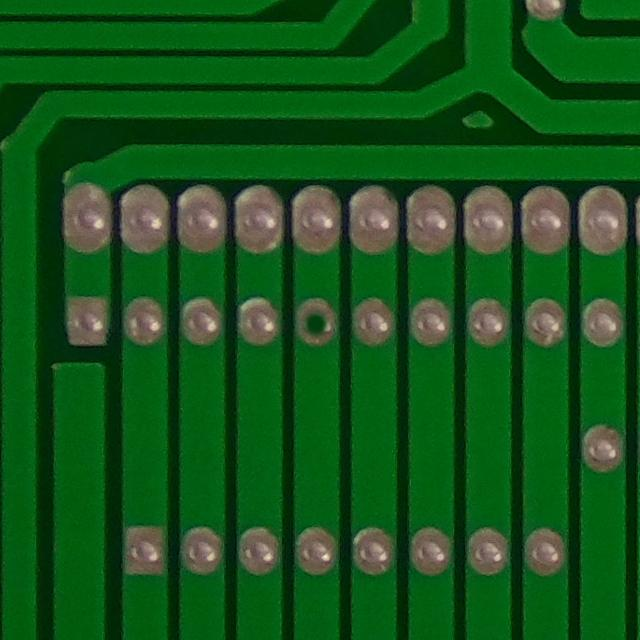missing_hole: (294, 285, 347, 356)
